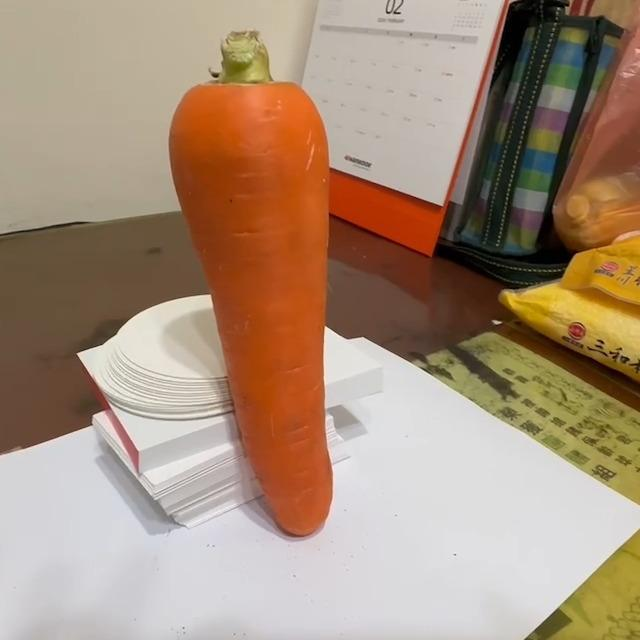carrot: (168, 31, 341, 537)
